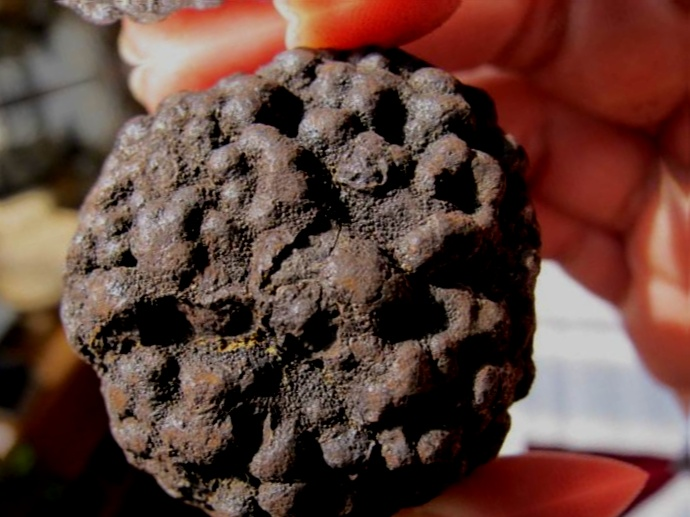halobolite: (52, 51, 553, 516)
